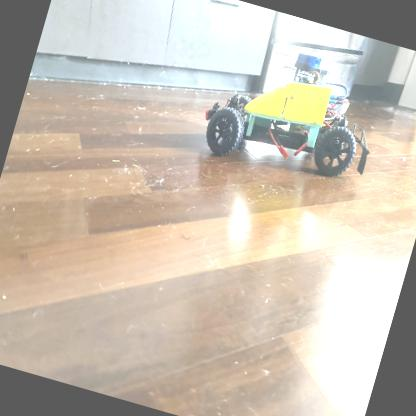mushr_car: (194, 29, 396, 199)
